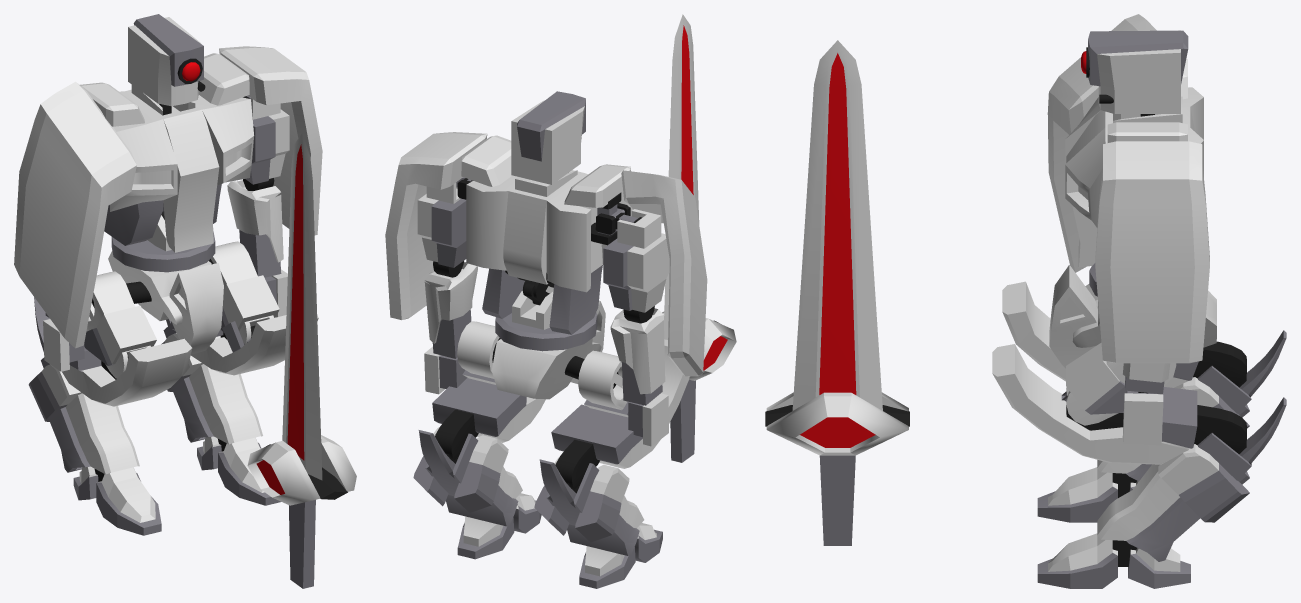
The model's file is SwordBotModel+Rig.fbx.
3 views of the same model, side by side, from view 1: azimuth 30°, elevation 25°; view 2: azimuth 150°, elevation 25°; view 3: azimuth 270°, elevation 25° (orthographic). The views are drawn at different scales.
Parts seen in each view (by area): view 1: Cube, UpperChest, Cube.003, Cube.057, Cube.088, Cube.074, Cube.049, Cube.013, Cube.005, Cube.055, Cube.037, Cube.039 (+25 smaller); view 2: UpperChest, Cube, Cube.057, Cube.003, Cube.004, Cube.055, Cube.001, Cube.037, Cube.006, Cube.007, Cube.041, Cube.032 (+40 smaller); view 3: Cube.003, Cube.057, Cube.039, UpperChest, Cube.074, Cube, Cube.037, Cube.013, Cube.088, Cube.005, Cube.054, Cube.010 (+19 smaller).
Boxes of the visible parts, x1,y1,x2,y2 form: Cube: (14, 81, 136, 348); UpperChest: (110, 85, 254, 252); Cube.003: (264, 133, 347, 588); Cube.057: (219, 46, 322, 235); Cube.088: (62, 338, 192, 406); Cube.074: (247, 435, 356, 505); Cube.049: (65, 393, 139, 474); Cube.013: (189, 364, 262, 444); Cube.005: (169, 263, 223, 354); Cube.055: (80, 53, 249, 126); Cube.037: (128, 17, 201, 106); Cube.039: (191, 315, 318, 375); UpperChest: (466, 170, 631, 292); Cube: (621, 170, 707, 376); Cube.057: (385, 132, 487, 320); Cube.003: (664, 14, 719, 462); Cube.004: (491, 338, 601, 399); Cube.055: (461, 135, 630, 207); Cube.001: (482, 265, 602, 334); Cube.037: (511, 100, 584, 184); Cube.006: (432, 377, 526, 436); Cube.007: (610, 308, 665, 394); Cube.041: (551, 404, 642, 464); Cube.032: (424, 261, 477, 343); Cube.003: (765, 40, 909, 545); Cube.057: (1095, 141, 1209, 363); Cube.039: (992, 344, 1188, 464); UpperChest: (1065, 87, 1203, 267); Cube.074: (766, 392, 908, 455); Cube: (1047, 14, 1156, 272); Cube.037: (1097, 30, 1180, 113); Cube.013: (1097, 464, 1179, 540); Cube.088: (1002, 281, 1188, 387); Cube.005: (1049, 265, 1097, 368); Cube.054: (1088, 30, 1188, 86); Cube.010: (1179, 463, 1249, 522).
Bounding box in the file's own units: 153 × 233 × 217.
